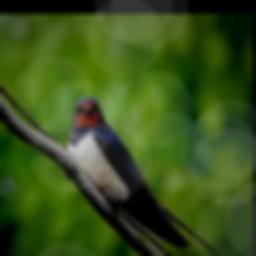Swallow: (66, 96, 220, 256)
